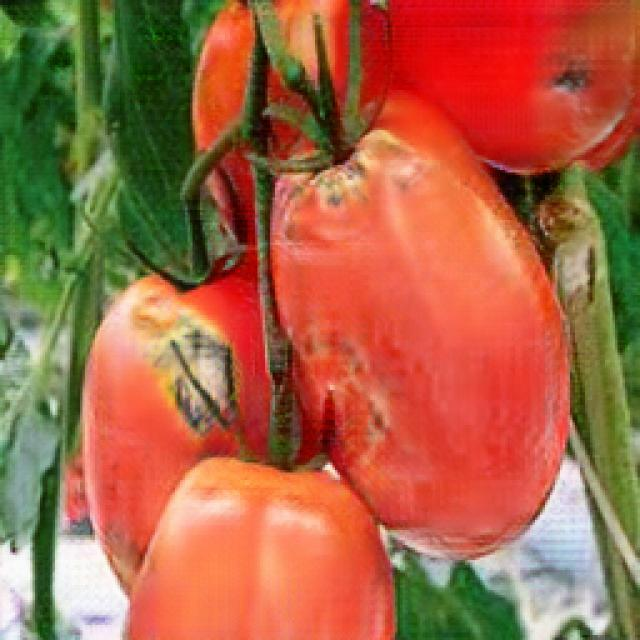overripe tomato: (270, 99, 574, 553), (80, 272, 289, 586), (388, 0, 635, 183)
